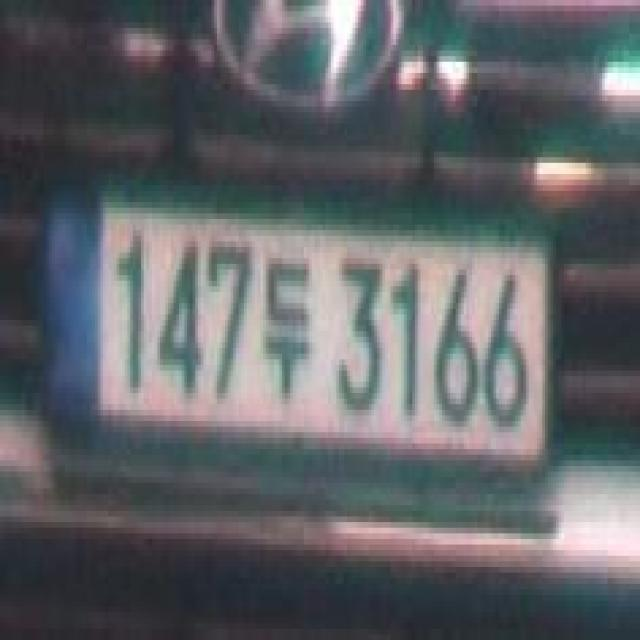illegal_plate: (26, 143, 562, 529)
